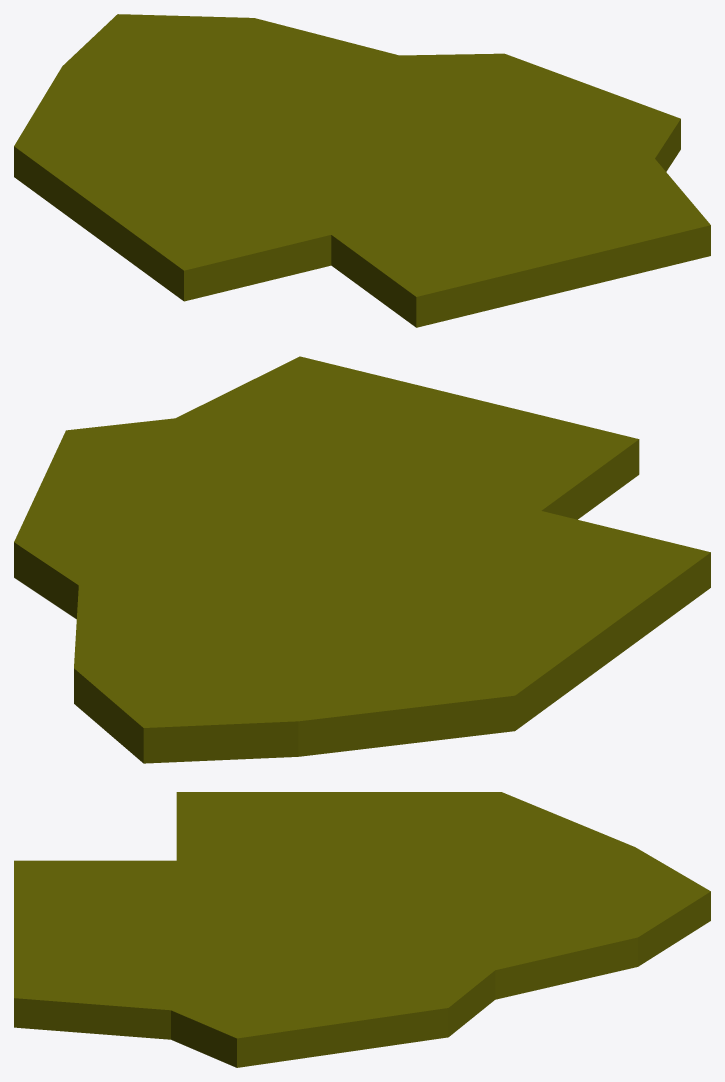
The model's file is x_0_boloto_5_1_rmstrd.fbx.
The picture shows the model from 3 angles, top to bottom: view 1: azimuth 30°, elevation 25°; view 2: azimuth 150°, elevation 25°; view 3: azimuth 270°, elevation 25°; orthographic projection. The views are drawn at different scales.
Visible parts, largest first — view 1: x_0_boloto_5_1_rmstrd1; view 2: x_0_boloto_5_1_rmstrd1; view 3: x_0_boloto_5_1_rmstrd1.
Boxes of the visible parts, left/top/right/bottom form: x_0_boloto_5_1_rmstrd1: left=14, top=14, right=710, bottom=327; x_0_boloto_5_1_rmstrd1: left=14, top=356, right=710, bottom=763; x_0_boloto_5_1_rmstrd1: left=14, top=792, right=710, bottom=1067.
Bounding box in the file's own units: 3.59 × 0.2 × 4.29.
